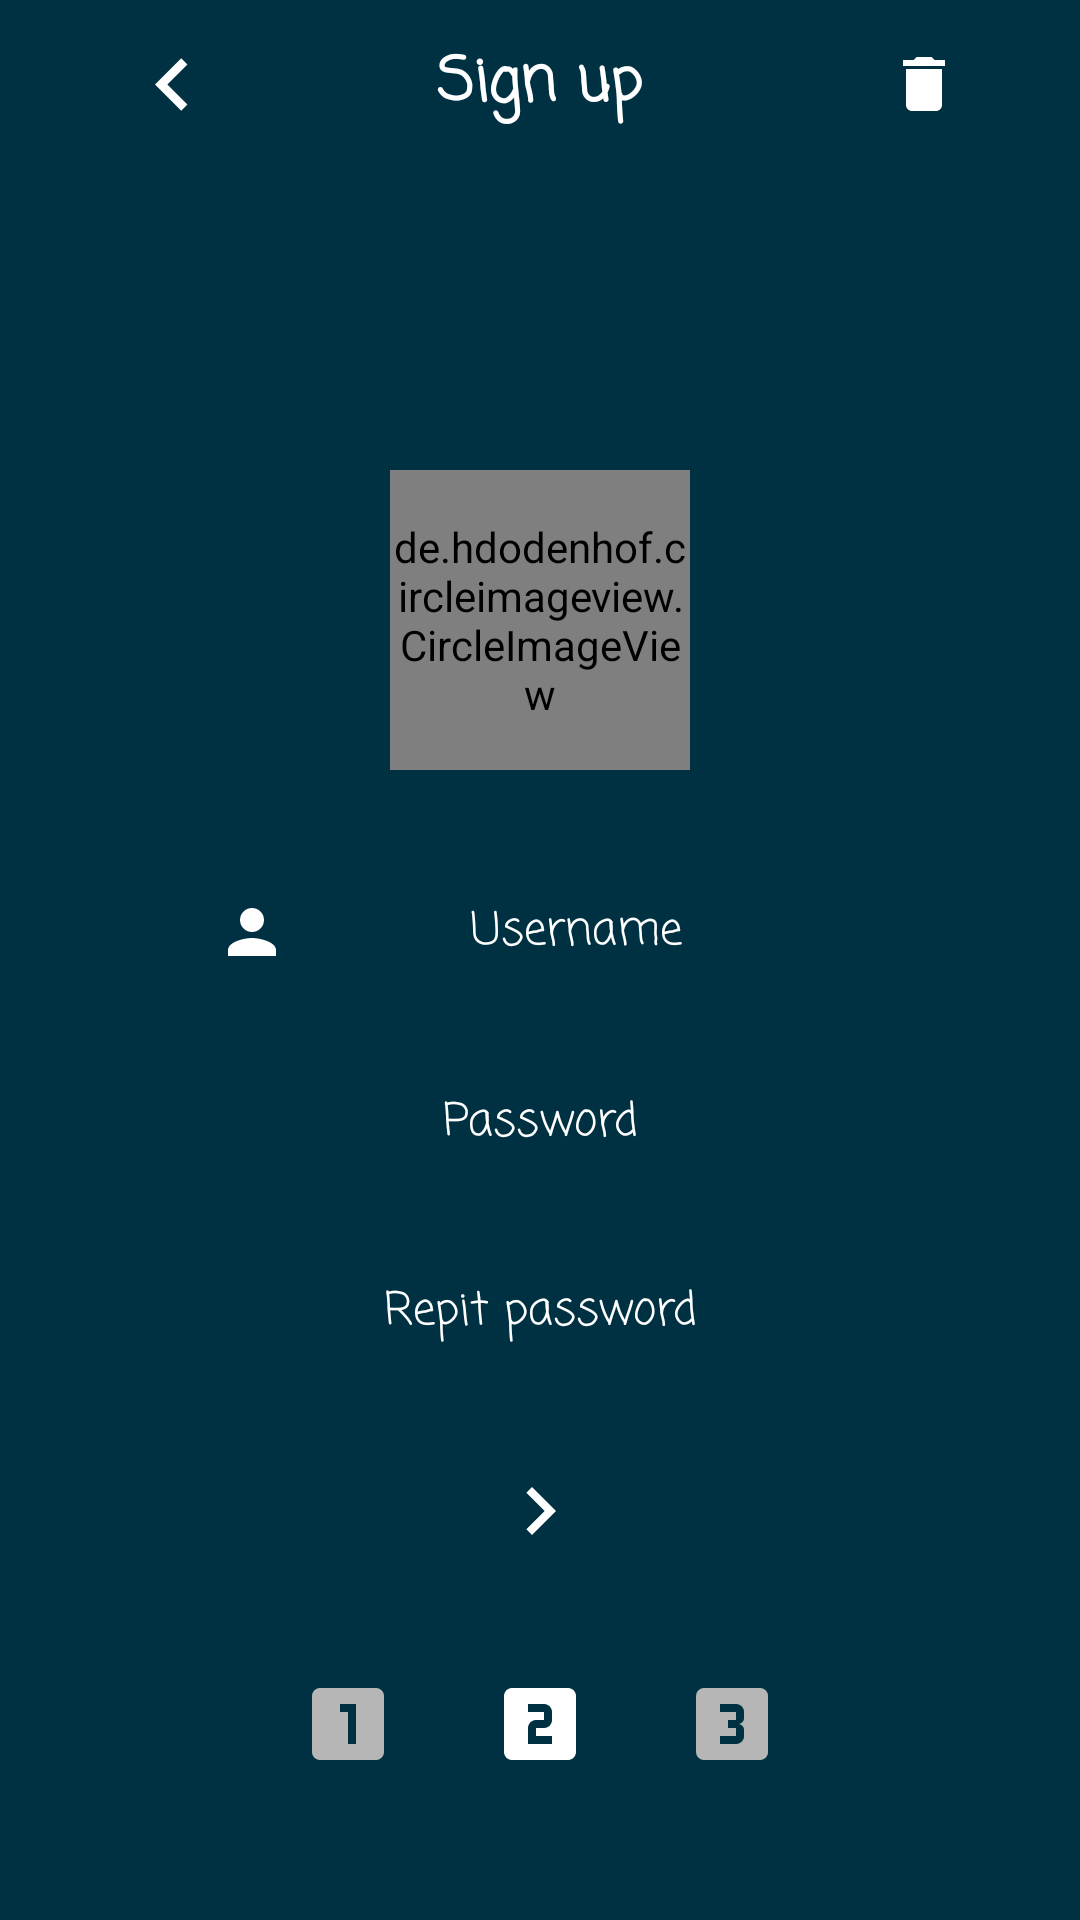

Icons on this 1080×1920 Android screen, each with the point to tap as (x=x, y=y):
back: (x=171, y=84)
delete: (x=924, y=84)
next: (x=541, y=1511)
page one: (x=348, y=1724)
page trhee: (x=732, y=1724)
page two: (x=540, y=1724)
